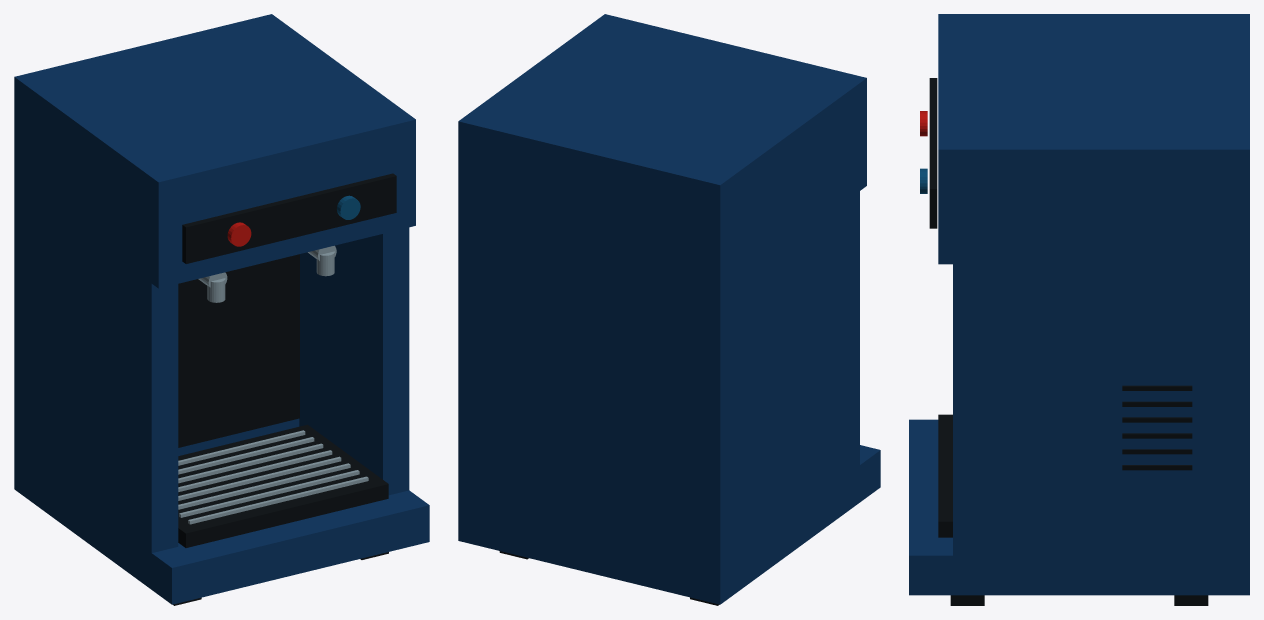
The model's file is water_dispenser_countertop.dae.
The picture shows the model from 3 angles, left to right: view 1: azimuth 30°, elevation 25°; view 2: azimuth 150°, elevation 25°; view 3: azimuth 270°, elevation 25°; orthographic projection. The views are drawn at different scales.
Parts seen in each view (by area): view 1: top, side (×2), base, recess_back, back, drip_tray_tray, control_strip, drip_tray_bar_7, drip_tray_bar_6, drip_tray_bar_5, drip_tray_bar_4, drip_tray_bar_3 (+3 smaller); view 2: back, top, side, base; view 3: side, top, back, base, drip_tray_tray, control_strip.
Part boxes in pixels (box(x1,y1,x2,y2)): top: box(14, 14, 415, 288); side (×2): box(21, 106, 409, 552); base: box(14, 453, 429, 604); recess_back: box(178, 254, 299, 447); back: box(14, 103, 299, 491); drip_tray_tray: box(178, 424, 388, 547); control_strip: box(182, 173, 396, 263); drip_tray_bar_7: box(188, 476, 368, 524); drip_tray_bar_6: box(179, 470, 359, 517); drip_tray_bar_5: box(178, 463, 350, 509); drip_tray_bar_4: box(178, 456, 341, 500); drip_tray_bar_3: box(178, 450, 332, 491); back: box(458, 146, 775, 567); top: box(458, 14, 866, 292); side: box(727, 154, 859, 526); base: box(458, 445, 880, 604); side: box(953, 176, 1235, 555); top: box(938, 14, 1249, 264); back: box(1133, 176, 1249, 555); base: box(909, 419, 1249, 595); drip_tray_tray: box(938, 414, 952, 537); control_strip: box(929, 78, 937, 228).
Bounding box in the file's own units: 332 × 350 × 530.
